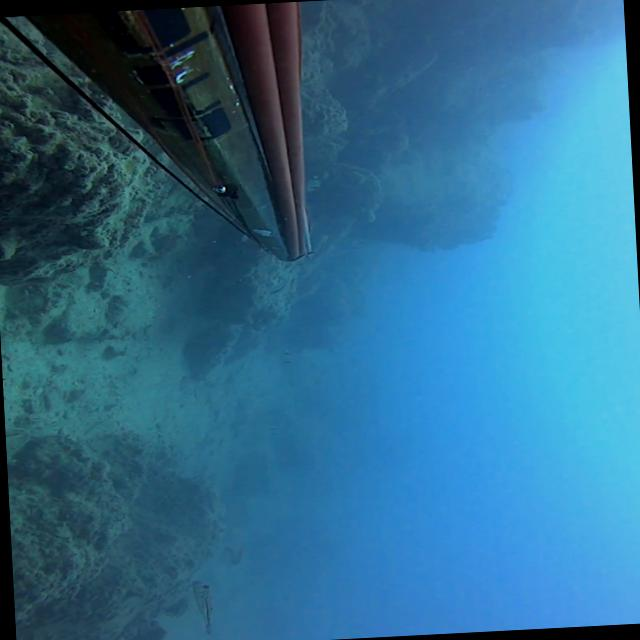Balon Baligi: (192, 579, 216, 634), (268, 278, 292, 294)
